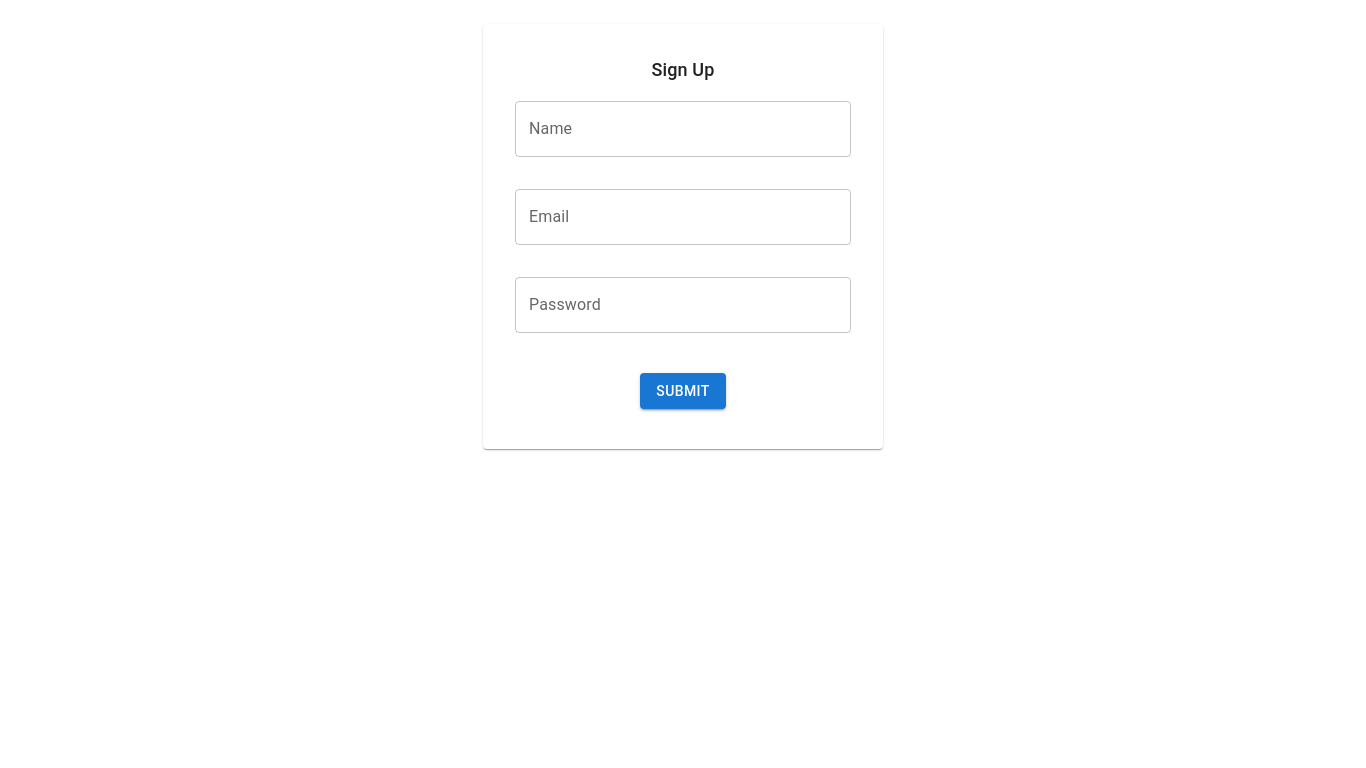
Test case: Signup Component › submits form successfully and opens dialog
Type "Milena" into the field labelled "Name". click: {"x": 683, "y": 129}
box: [515,101,851,157]
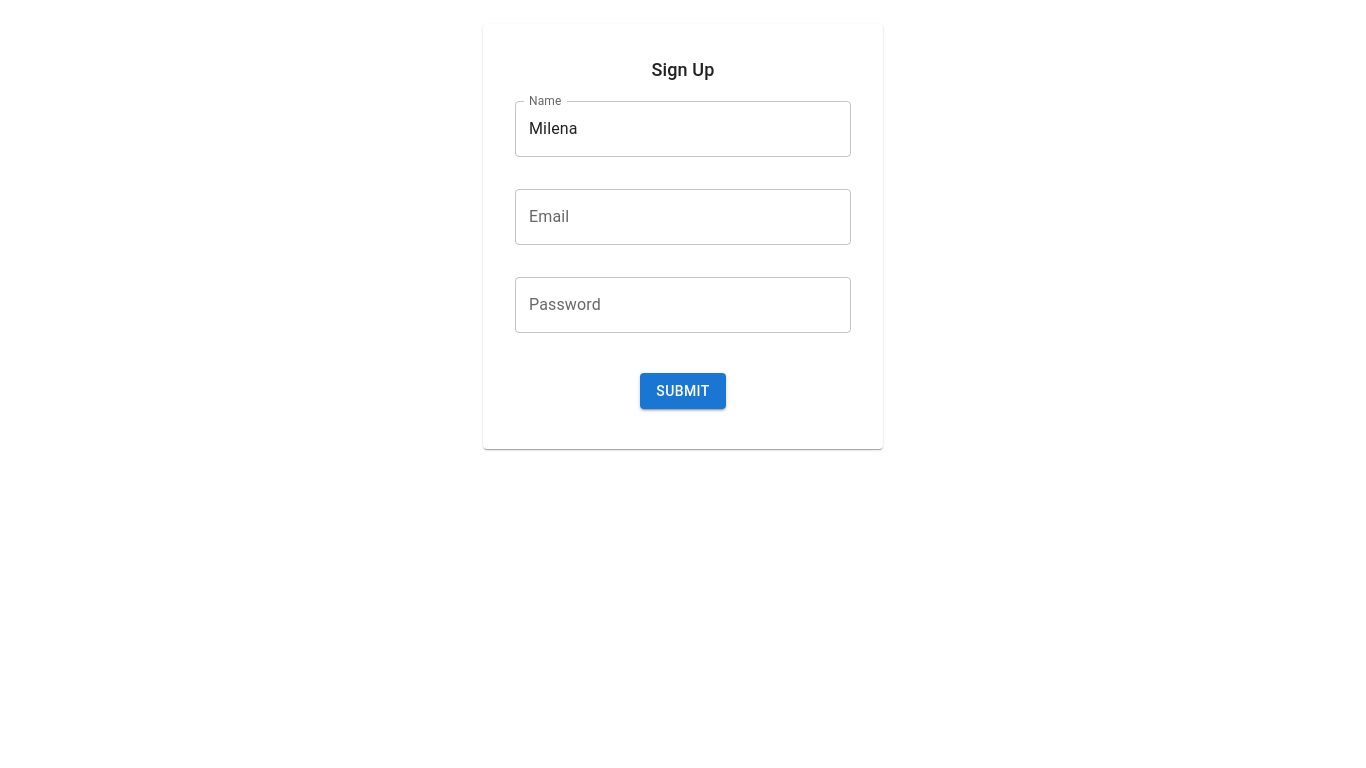
Type "milena@test.com" into the field labelled "Email". click: {"x": 683, "y": 217}
box: [515,189,851,245]
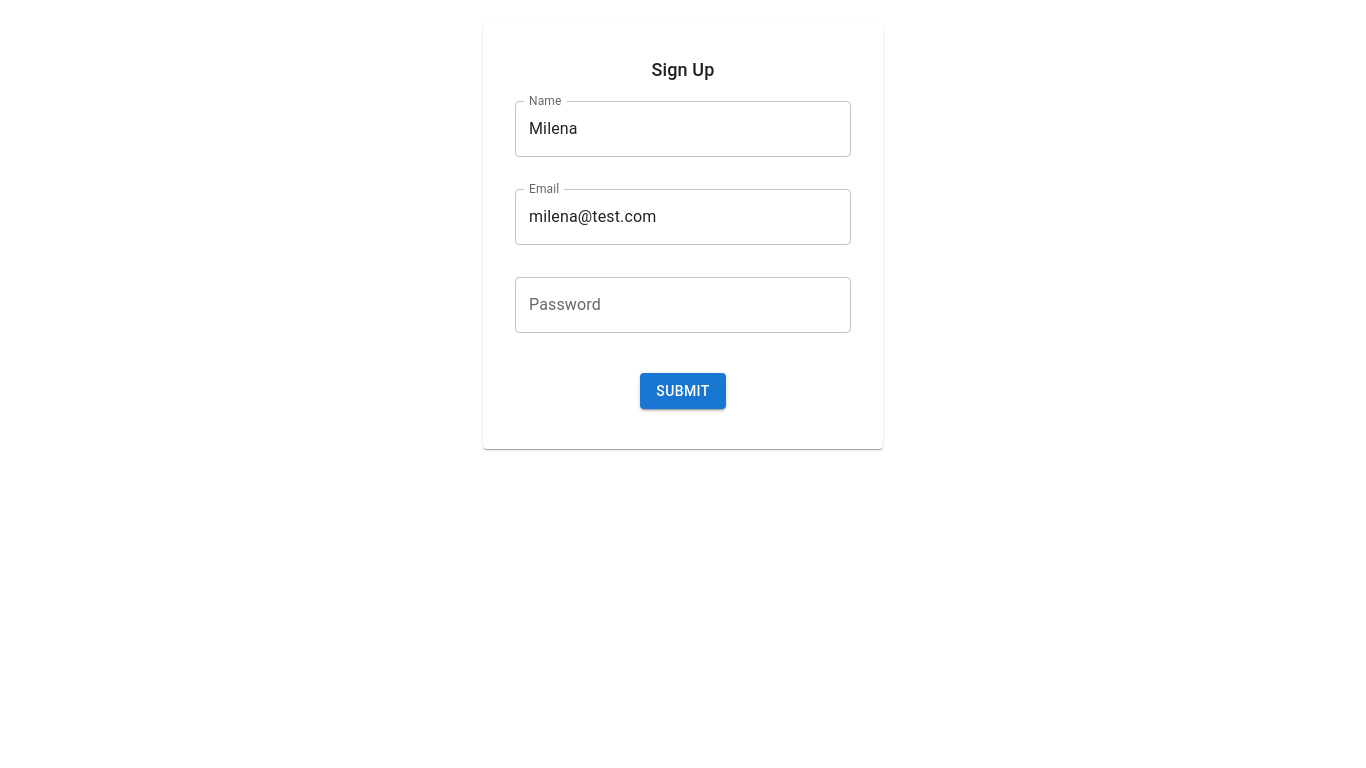
Type "secretpass" into the password field labelled "Password". click: {"x": 683, "y": 305}
box: [515,277,851,333]
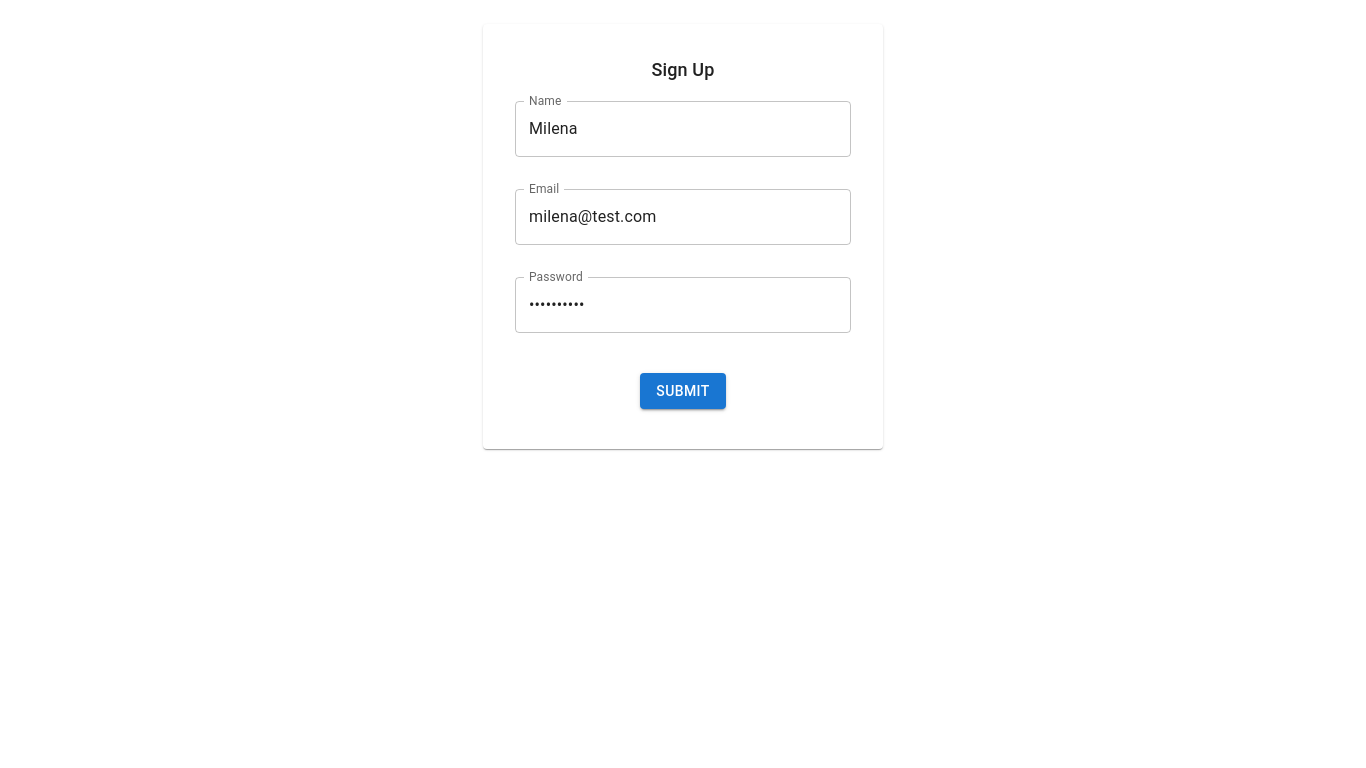
Click the button "Submit". click: {"x": 683, "y": 391}
box: [640,373,726,409]
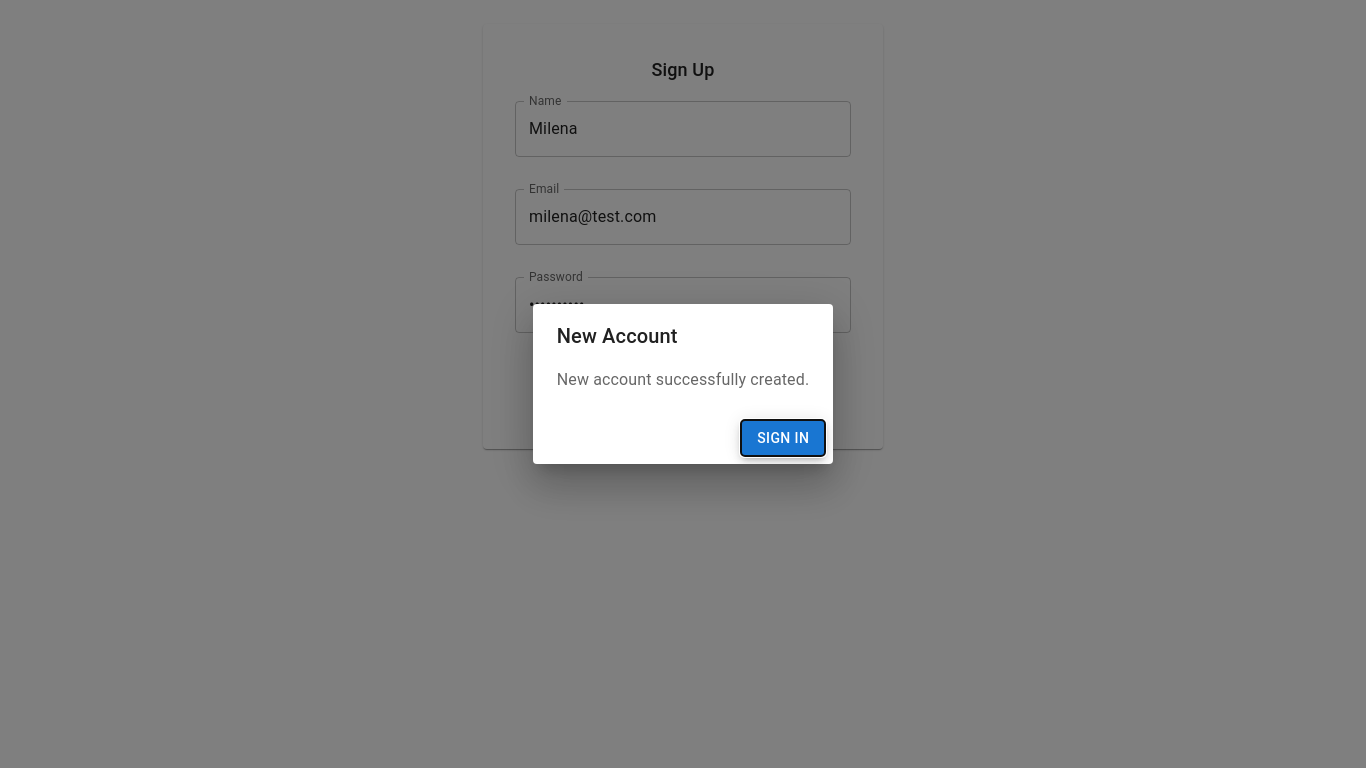
Check: the text "New account successfully created." is shown, box [557,368,809,392]
